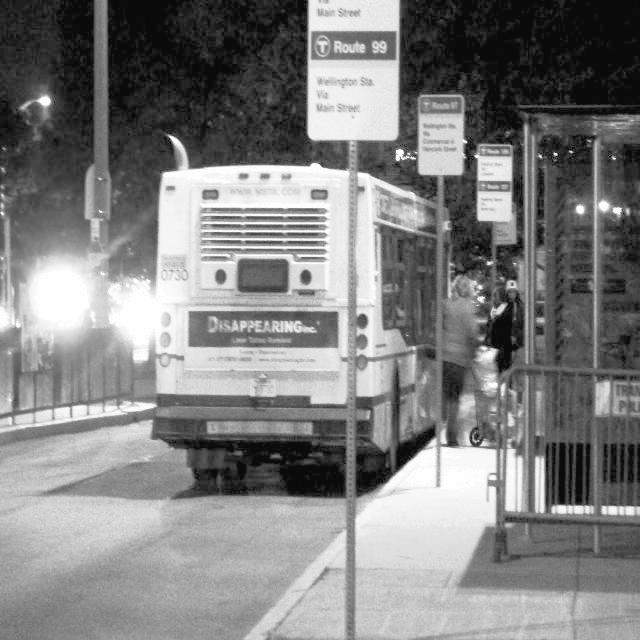Bus: (127, 130, 448, 465)
